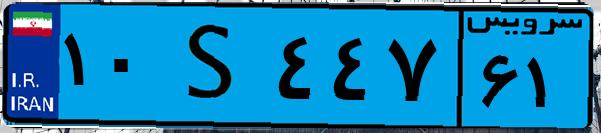0: (110, 28, 158, 98)
1: (57, 26, 110, 100), (525, 38, 570, 115)
4: (270, 28, 330, 110), (330, 28, 385, 110)
6: (475, 38, 525, 113)
7: (385, 28, 445, 110)
S: (158, 12, 270, 120)
